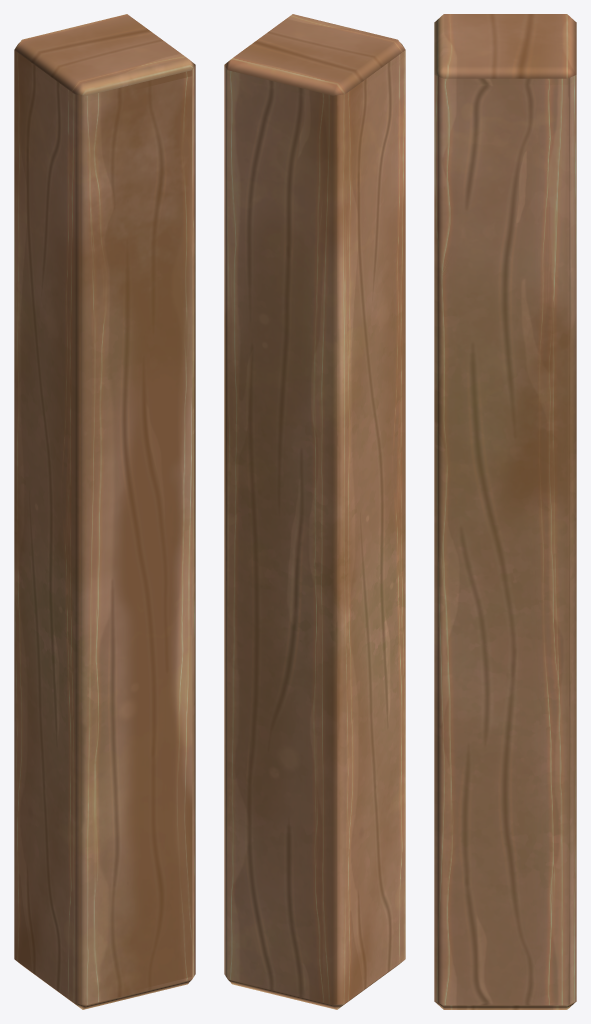
The model's file is SM_Column_04.gltf.
3 renders of one model, left to right at view 1: azimuth 30°, elevation 25°; view 2: azimuth 150°, elevation 25°; view 3: azimuth 270°, elevation 25°, orthographic.
Visible parts, largest first — view 1: SM_Column_04_LOD0; view 2: SM_Column_04_LOD0; view 3: SM_Column_04_LOD0.
Boxes of the visible parts, left/top/right/bottom form: SM_Column_04_LOD0: left=14, top=14, right=195, bottom=1009; SM_Column_04_LOD0: left=224, top=14, right=405, bottom=1009; SM_Column_04_LOD0: left=434, top=14, right=576, bottom=1009.
Size of what is drawn, in the model's own units: 0.3 by 2.19 by 0.3.
1 material, 1 textured.
